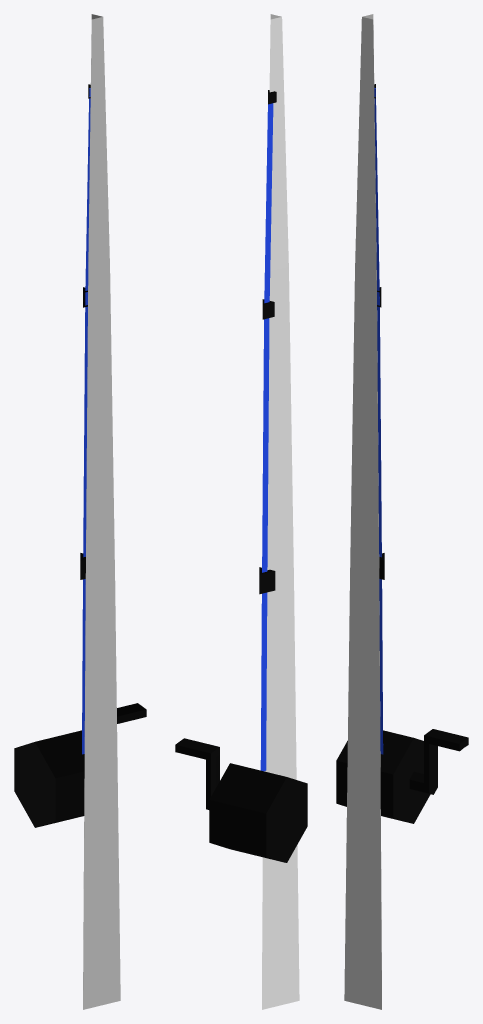
File: fishing_rod.glb
3 renders of one model, left to right at view 1: azimuth 30°, elevation 25°; view 2: azimuth 150°, elevation 25°; view 3: azimuth 330°, elevation 25°, orthographic.
Parts seen in each view (by area): view 1: Cylinder; view 2: Cylinder; view 3: Cylinder.
Part boxes in pixels (x1,y1,x2,y2): Cylinder: (14,14,146,1009); Cylinder: (175,14,307,1009); Cylinder: (336,14,468,1009).
Size of the model in its own units: 5.59 by 49.06 by 4.6.
